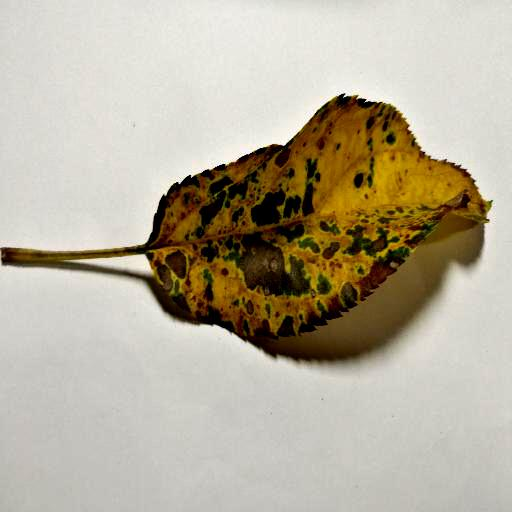Brown_Spot: (144, 167, 421, 313)
